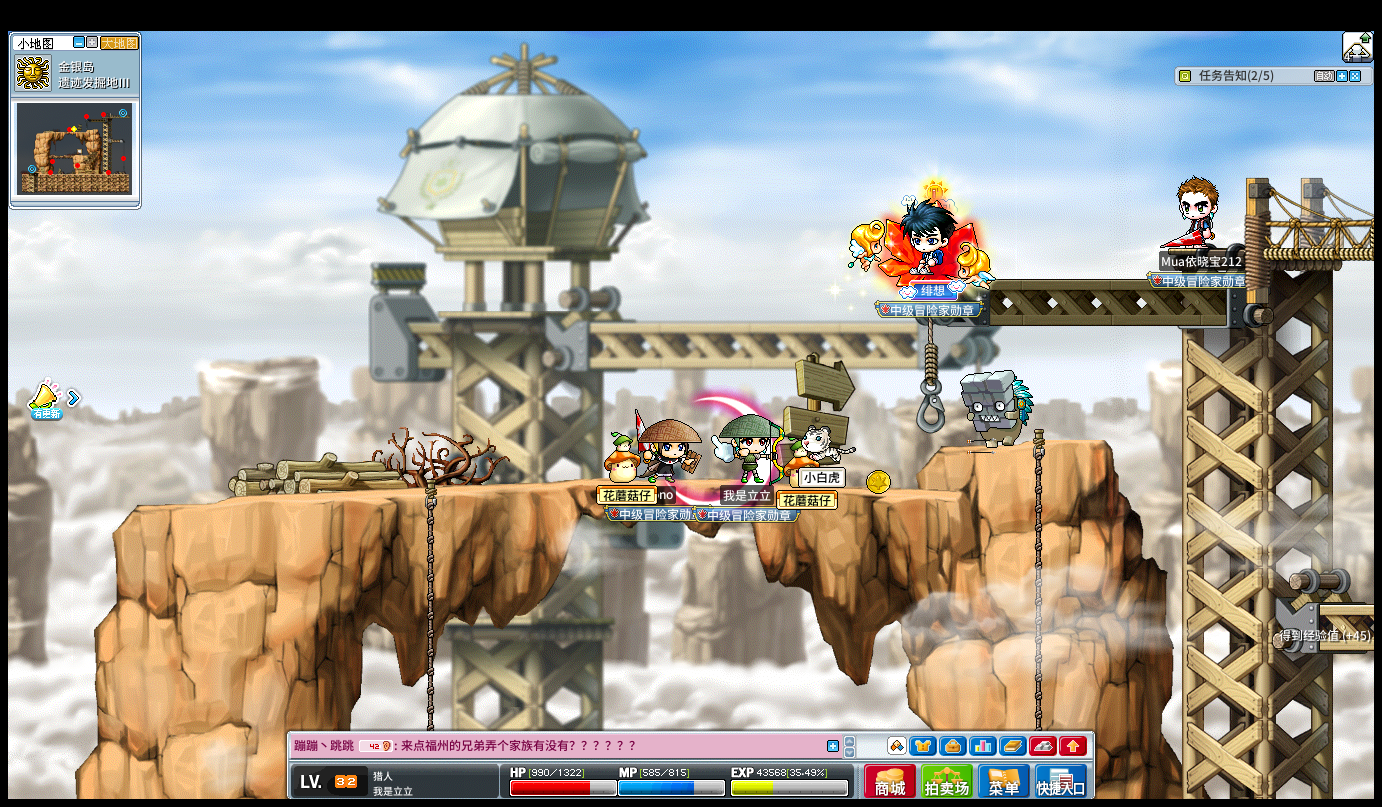floor: (117, 474, 866, 507), (126, 477, 1035, 492), (935, 434, 1112, 449), (1318, 601, 1378, 613)
monster: (961, 370, 1033, 448)
rope: (1030, 425, 1045, 713), (423, 475, 437, 739)
